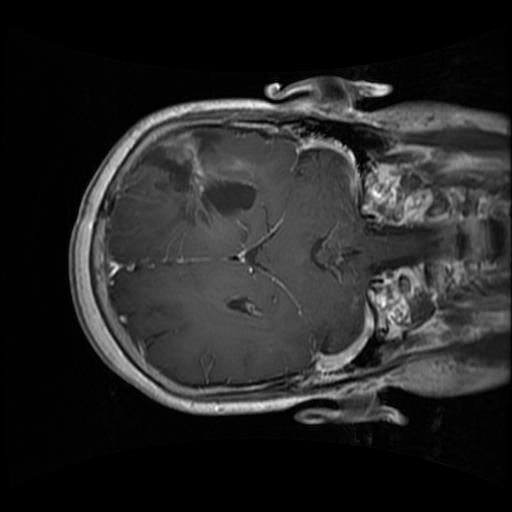glioma: (130, 132, 256, 226)
